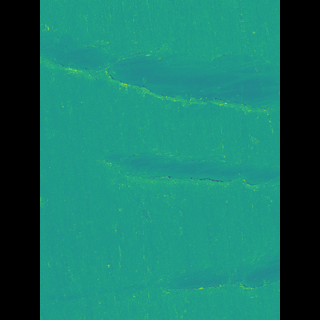Loch: (71, 20, 251, 115), (71, 244, 250, 318), (111, 140, 249, 194)
